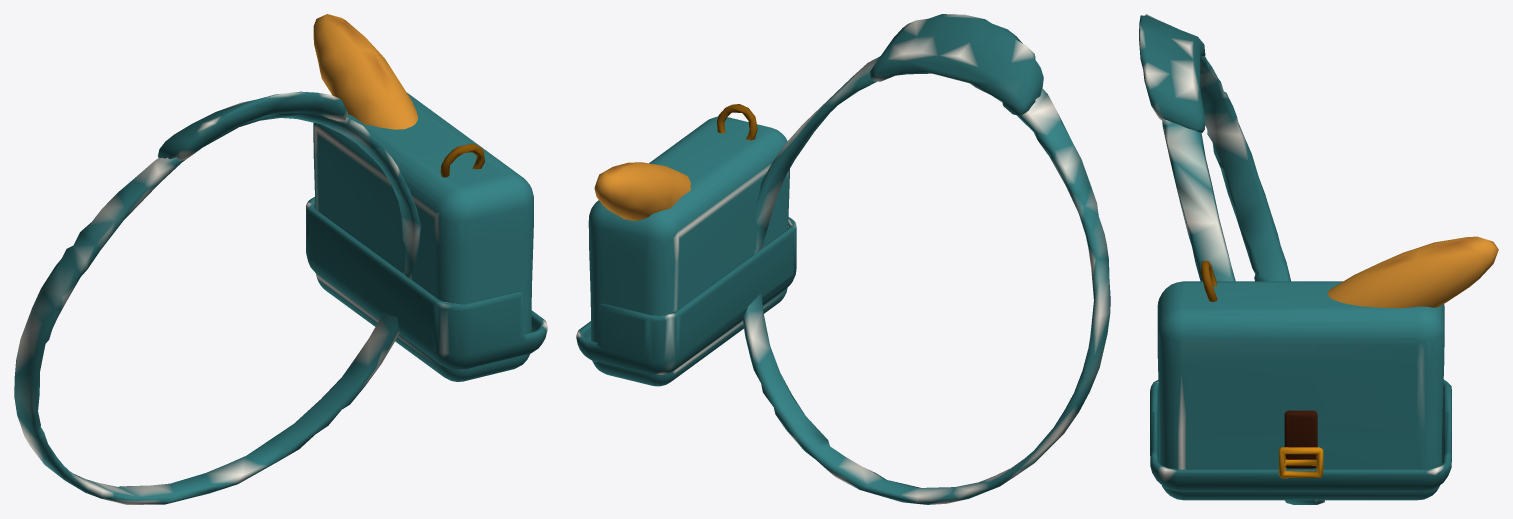
File: tuibanh.glb
3 views of the same model, side by side, from view 1: azimuth 30°, elevation 25°; view 2: azimuth 150°, elevation 25°; view 3: azimuth 270°, elevation 25° (orthographic). The views are drawn at different scales.
Visible parts, largest first — view 1: Than_Tui, Quai, Nap_Tui, Banh, Dem_Vai, Khoen; view 2: Than_Tui, Quai, Nap_Tui, Dem_Vai, Banh, Khoen; view 3: Than_Tui, Quai, Nap_Tui, Banh, Dem_Vai, Quai_Da, Khoa_Dong, Khoen.
Part boxes in pixels (bbox=[...]): Than_Tui: bbox=[313, 93, 533, 381]; Quai: bbox=[14, 112, 420, 504]; Nap_Tui: bbox=[306, 197, 547, 369]; Banh: bbox=[313, 14, 417, 129]; Dem_Vai: bbox=[158, 91, 347, 161]; Khoen: bbox=[440, 143, 484, 177]; Than_Tui: bbox=[588, 116, 789, 386]; Quai: bbox=[742, 56, 1110, 504]; Nap_Tui: bbox=[576, 217, 796, 374]; Dem_Vai: bbox=[870, 14, 1043, 115]; Banh: bbox=[594, 162, 690, 220]; Khoen: bbox=[717, 104, 757, 140]; Than_Tui: bbox=[1157, 281, 1444, 500]; Quai: bbox=[1162, 56, 1324, 504]; Nap_Tui: bbox=[1150, 379, 1451, 491]; Banh: bbox=[1327, 236, 1498, 308]; Dem_Vai: bbox=[1139, 14, 1205, 132]; Quai_Da: bbox=[1284, 410, 1317, 468]; Khoa_Dong: bbox=[1278, 447, 1323, 478]; Khoen: bbox=[1201, 260, 1217, 301].
Bounding box in the file's own units: 0.3025 × 0.2706 × 0.1935.
